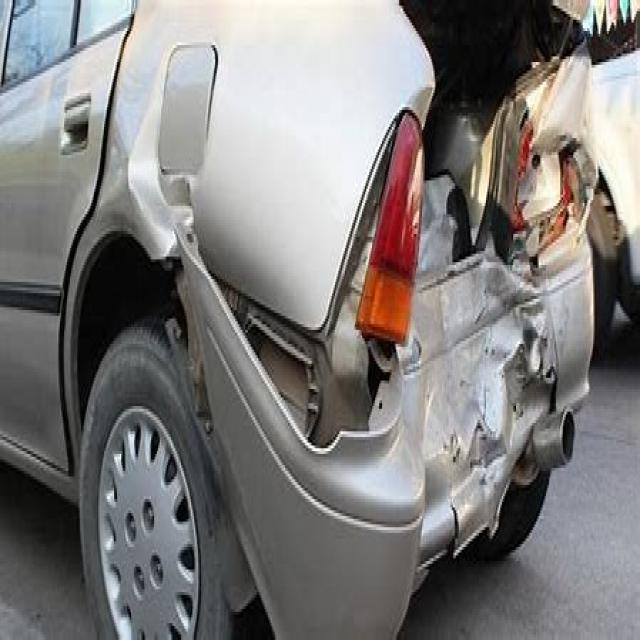Accident: (161, 8, 612, 559)
